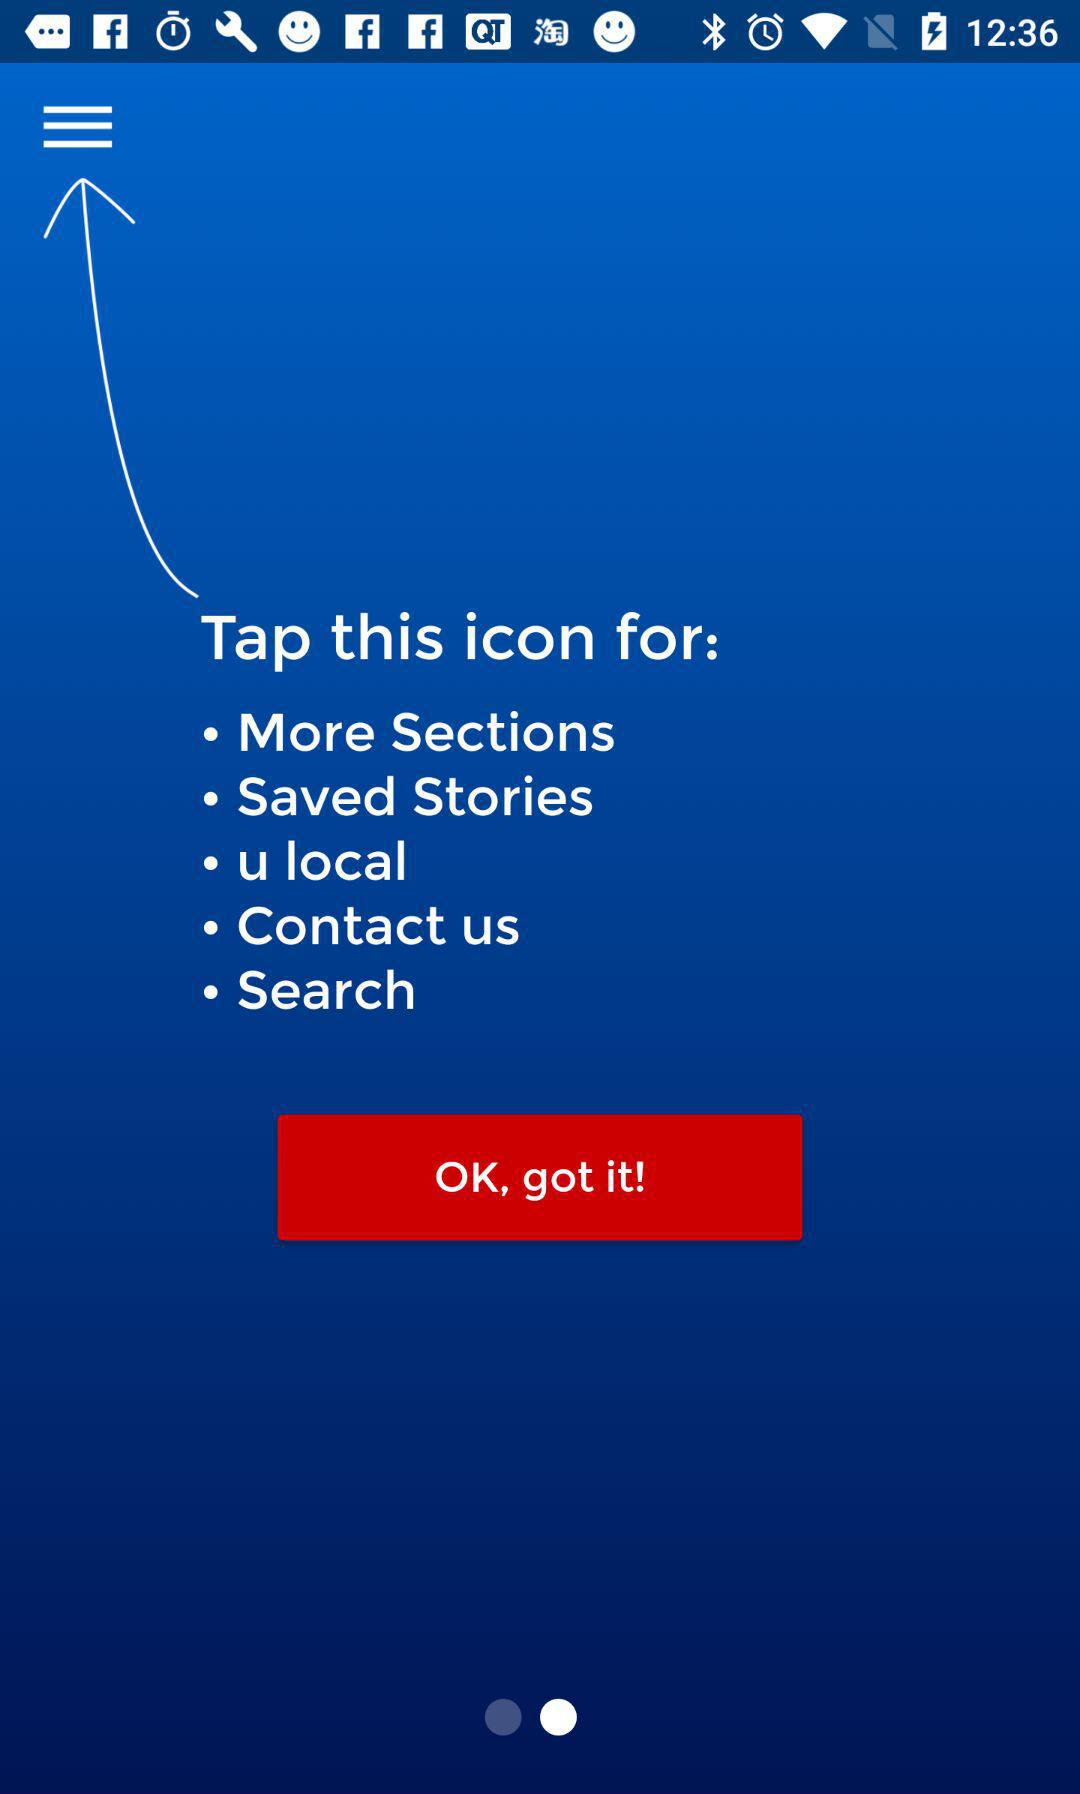Icon: (42, 106, 114, 150)
Image: (40, 178, 201, 601)
PageIndicator: (483, 1697, 579, 1738)
Text: (202, 711, 616, 1014), (200, 611, 719, 673)
TextButton: (277, 1114, 805, 1242)
UpperTaskBar: (1, 1, 1080, 64)
